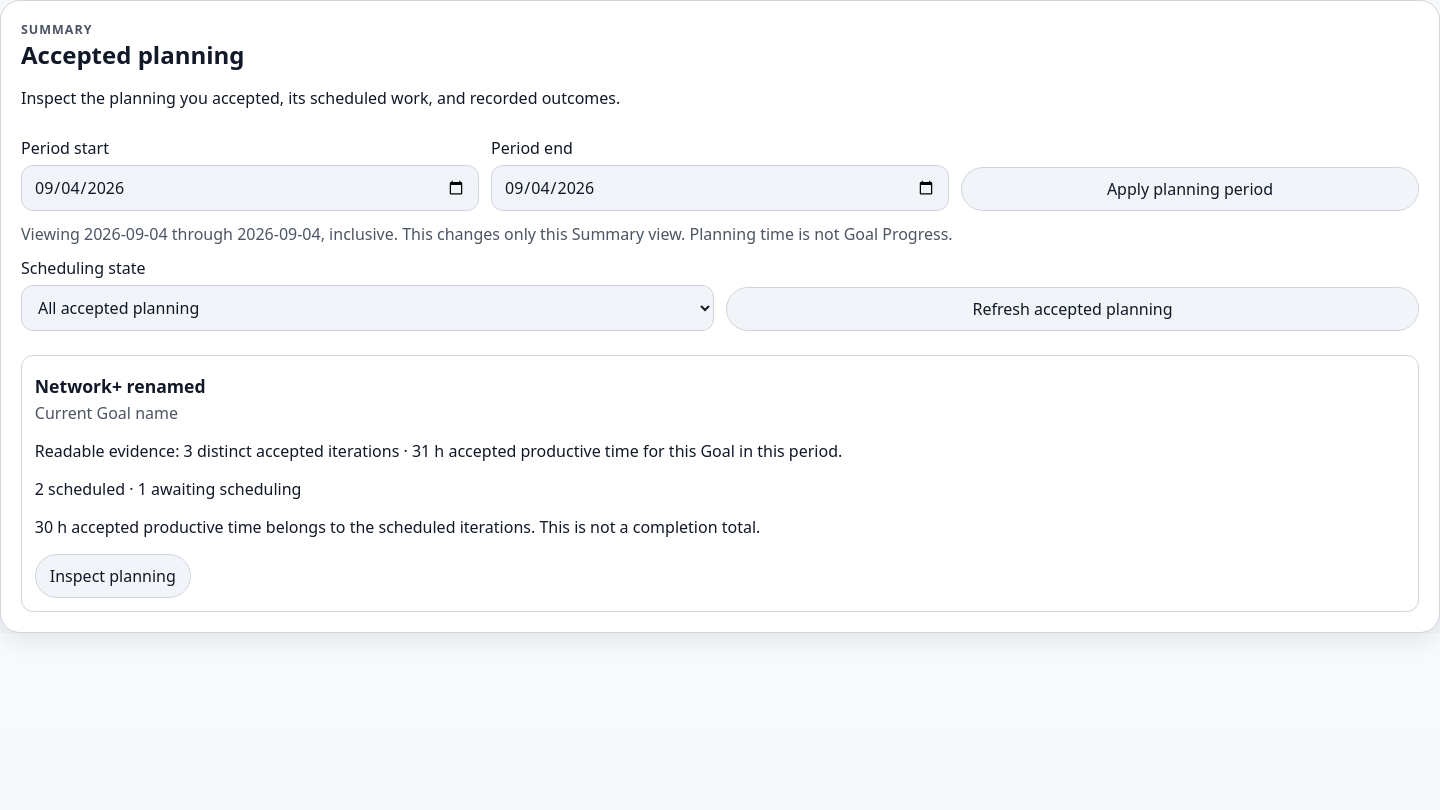
it: shows withdrawn actual without converting duration to Progress
What coordinates should you click on to do the following:
click the button named "Inspect planning:"
I would click on:
 (113, 576)
Its box is [35, 554, 191, 598].
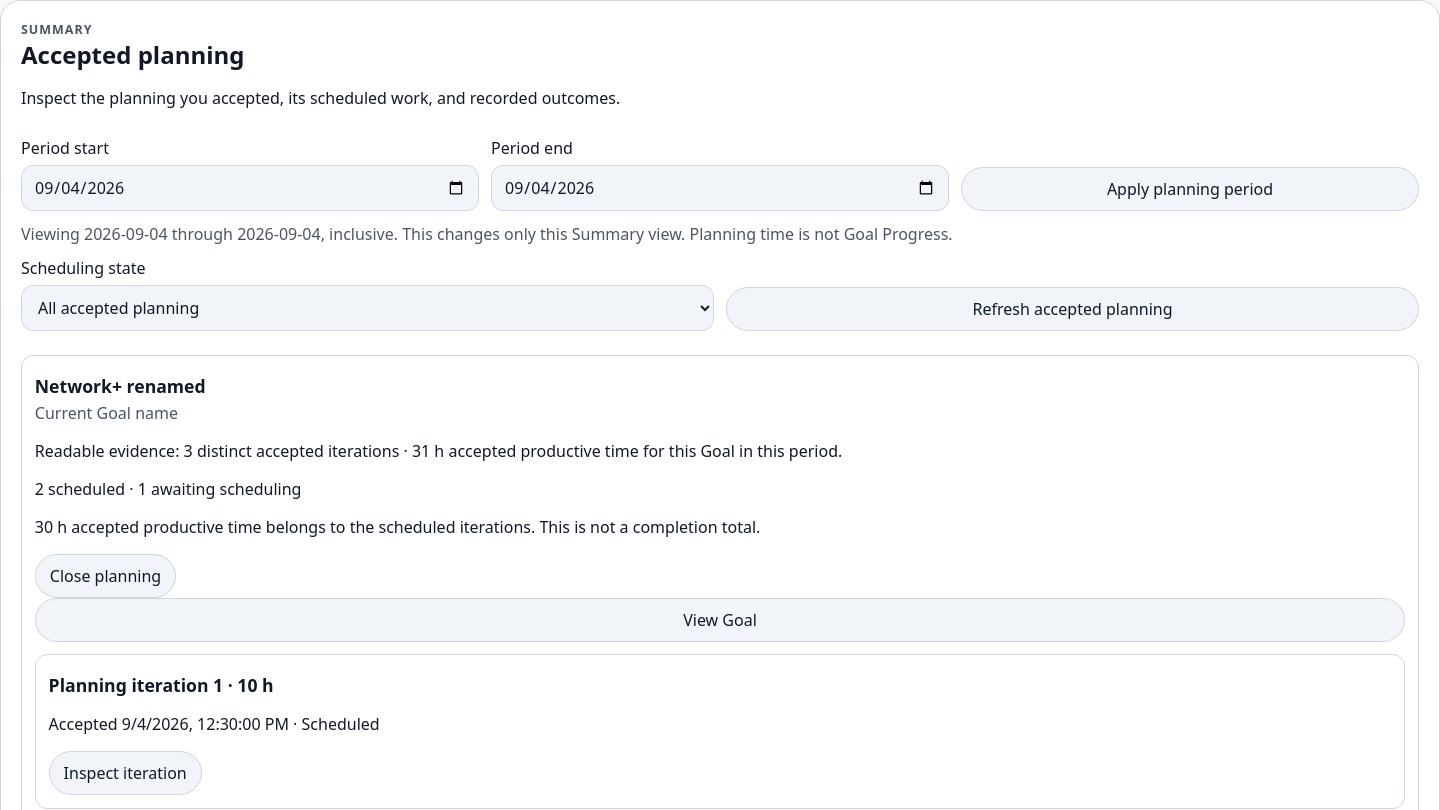
What coordinates should you click on to do the following:
click the button with aria-label "Inspect iteration 1"
I would click on:
 (125, 773)
Its box is [49, 751, 202, 795].
(page scrolled)
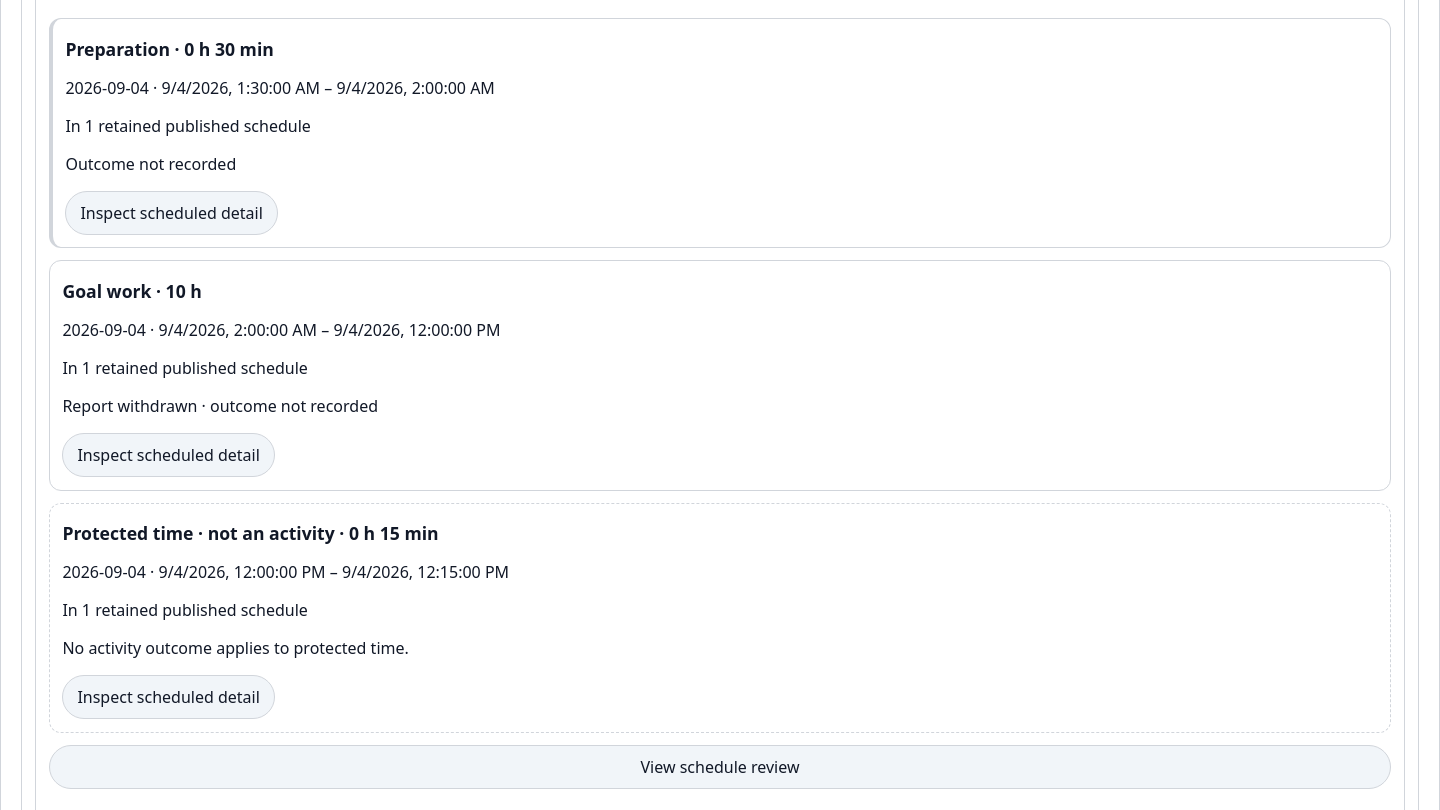
Now the text "Report withdrawn · outcome not recorded" is shown, box [62, 395, 378, 417]
